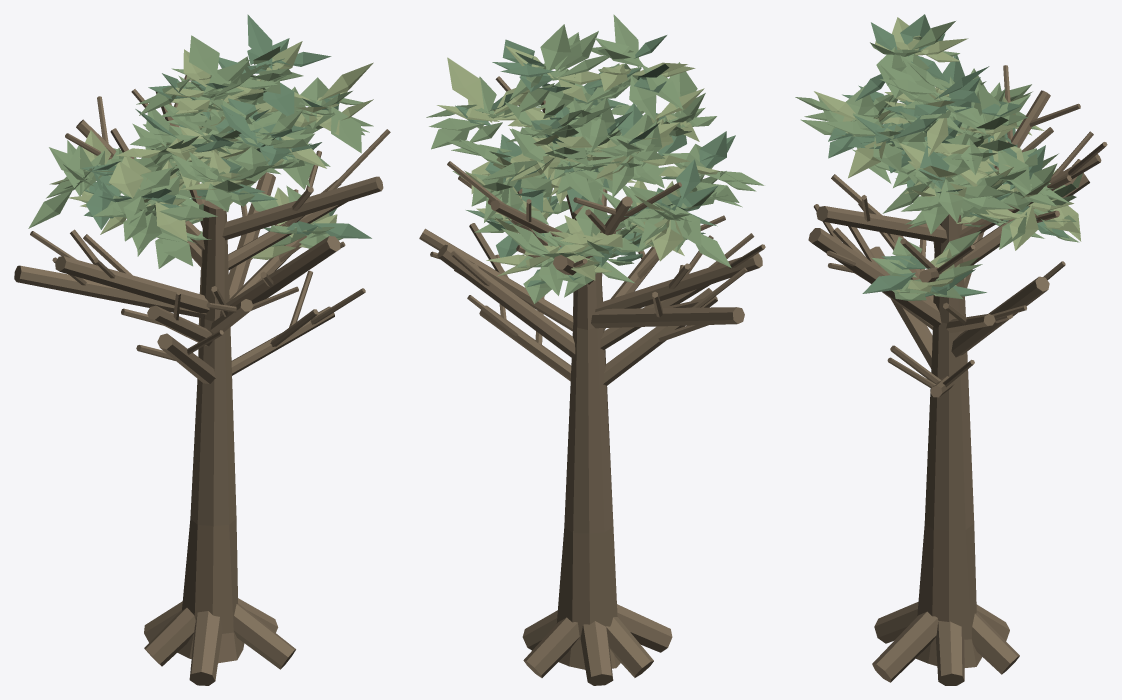
Rendered from broadleaf_c.glb.
3 views of the same model, side by side, from view 1: azimuth 30°, elevation 25°; view 2: azimuth 150°, elevation 25°; view 3: azimuth 270°, elevation 25° (orthographic).
Visible parts, largest first — view 1: broadleaf_c LOD0; view 2: broadleaf_c LOD0; view 3: broadleaf_c LOD0.
Part boxes in pixels (left/top/right/bottom): broadleaf_c LOD0: left=14, top=14, right=390, bottom=685; broadleaf_c LOD0: left=419, top=14, right=765, bottom=685; broadleaf_c LOD0: left=795, top=14, right=1107, bottom=685.
Size of what is drawn, in the model's own units: 4.91 by 8.6 by 3.86.
